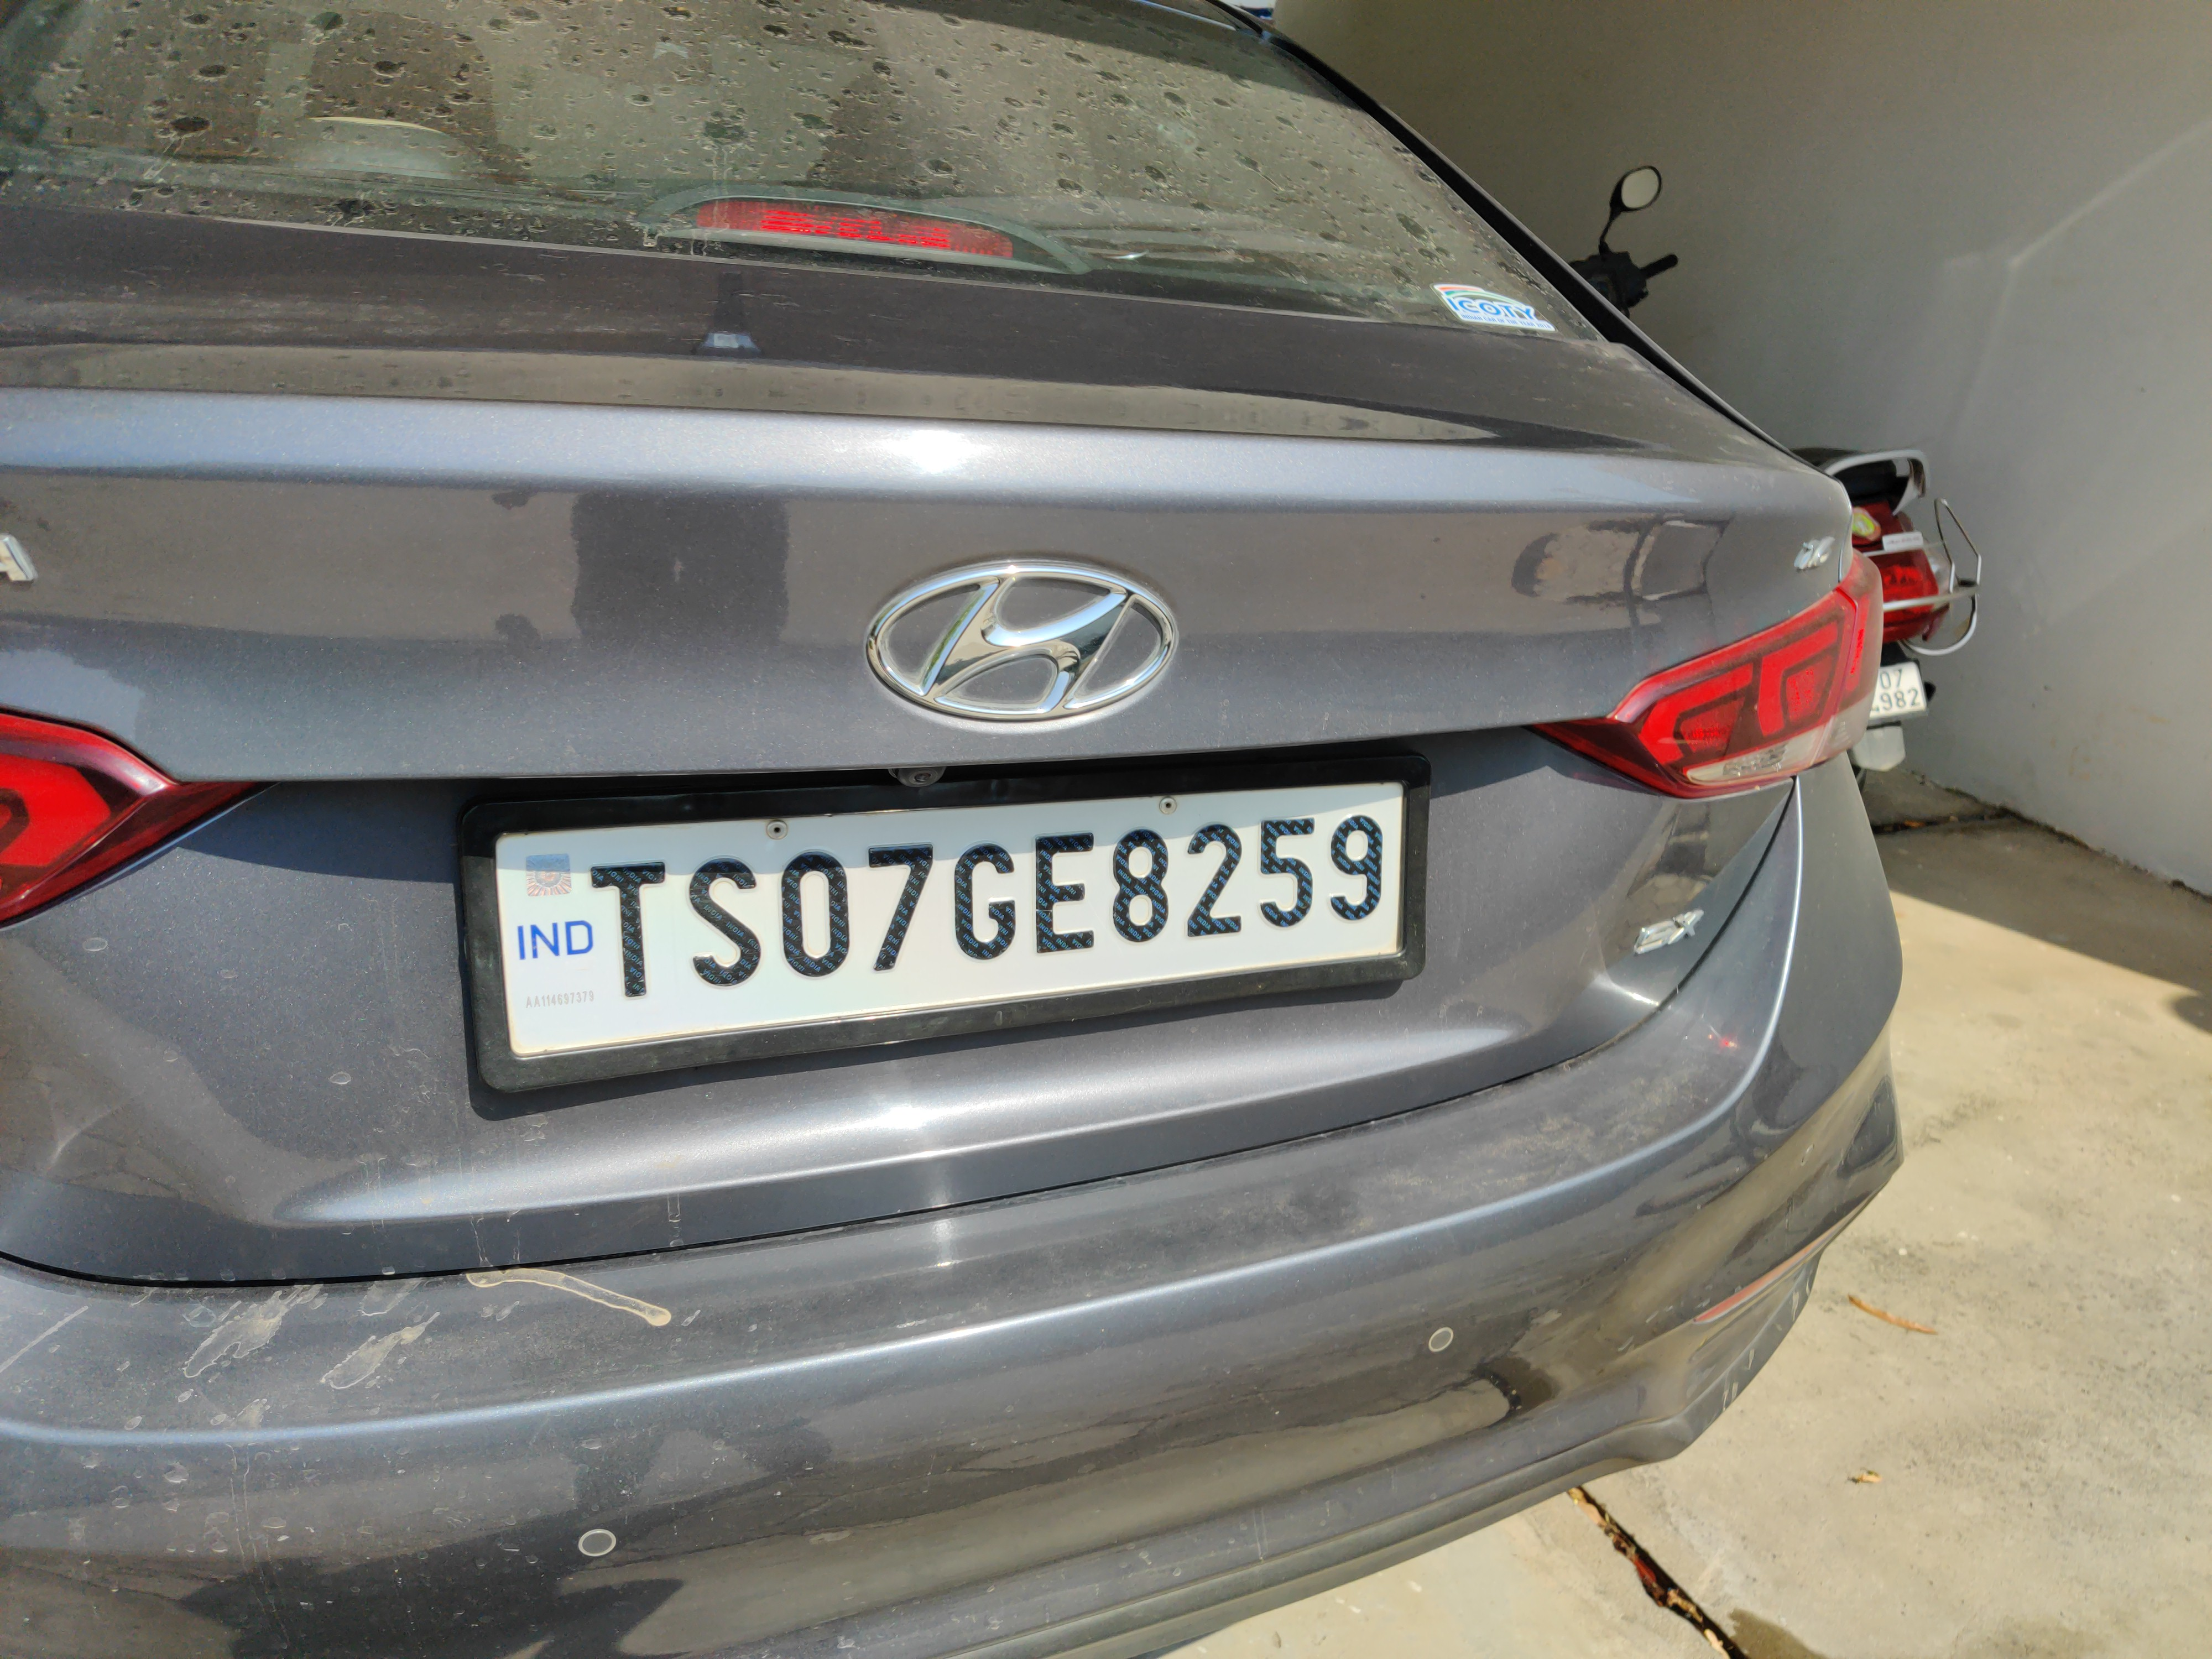plate: (410, 730, 1507, 1126)
